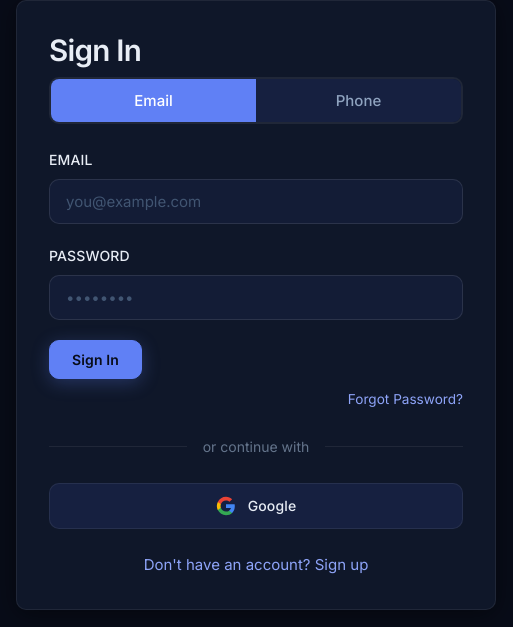
Test case: Login Page › Phone Auth › switches to phone form when Phone tab clicked
Click the button "Phone".
click(358, 100)  # box [256,78,461,122]
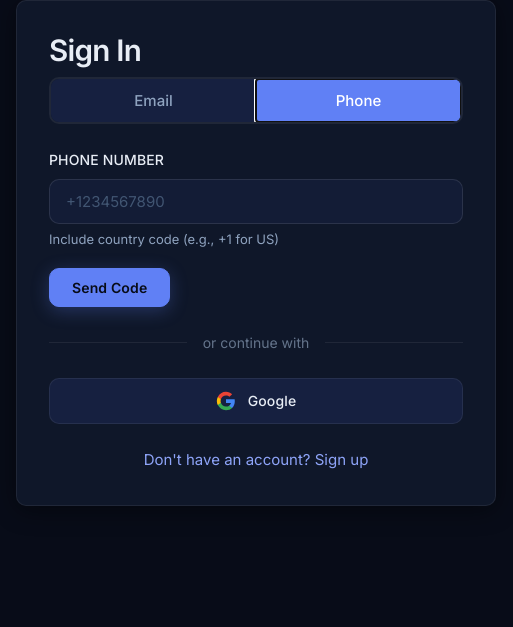
Result: the field labelled "Phone Number" is shown at [49,179,463,224]
